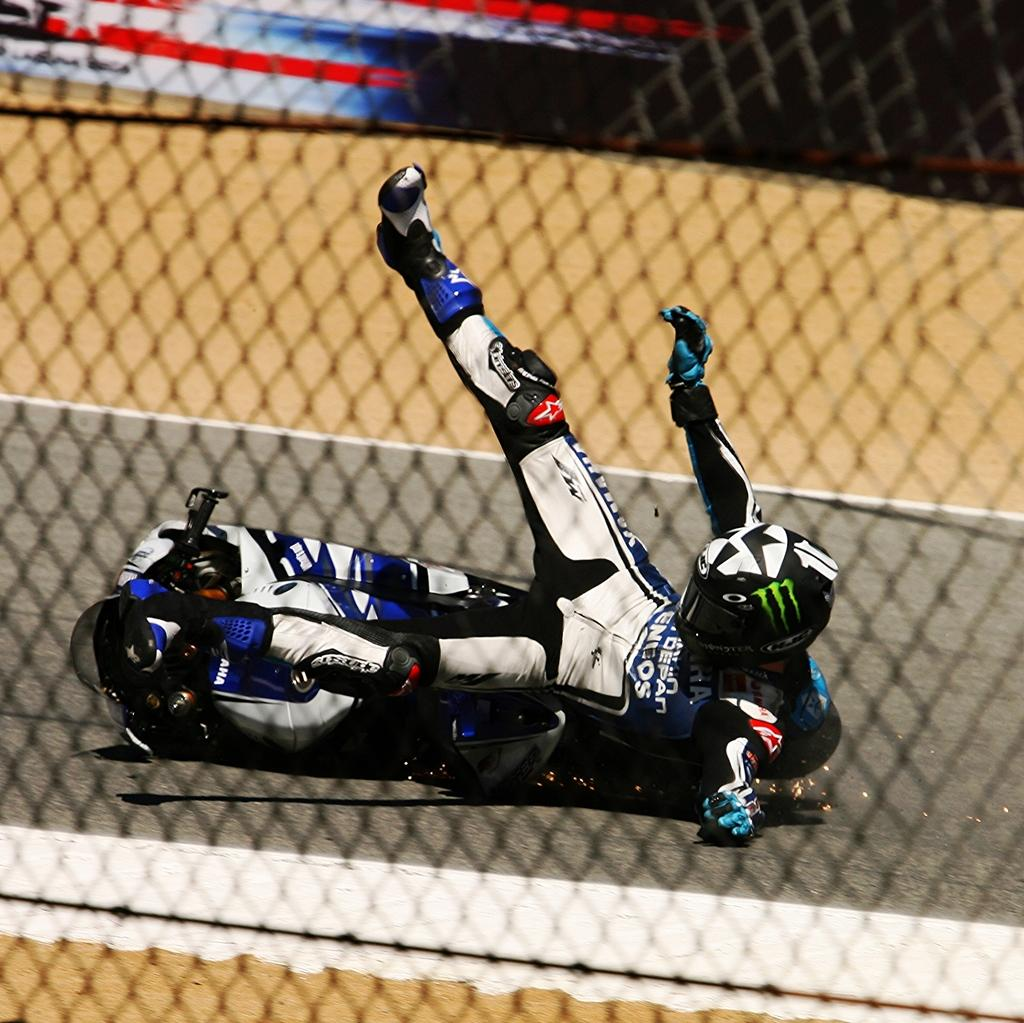helmet: (673, 522, 840, 668)
